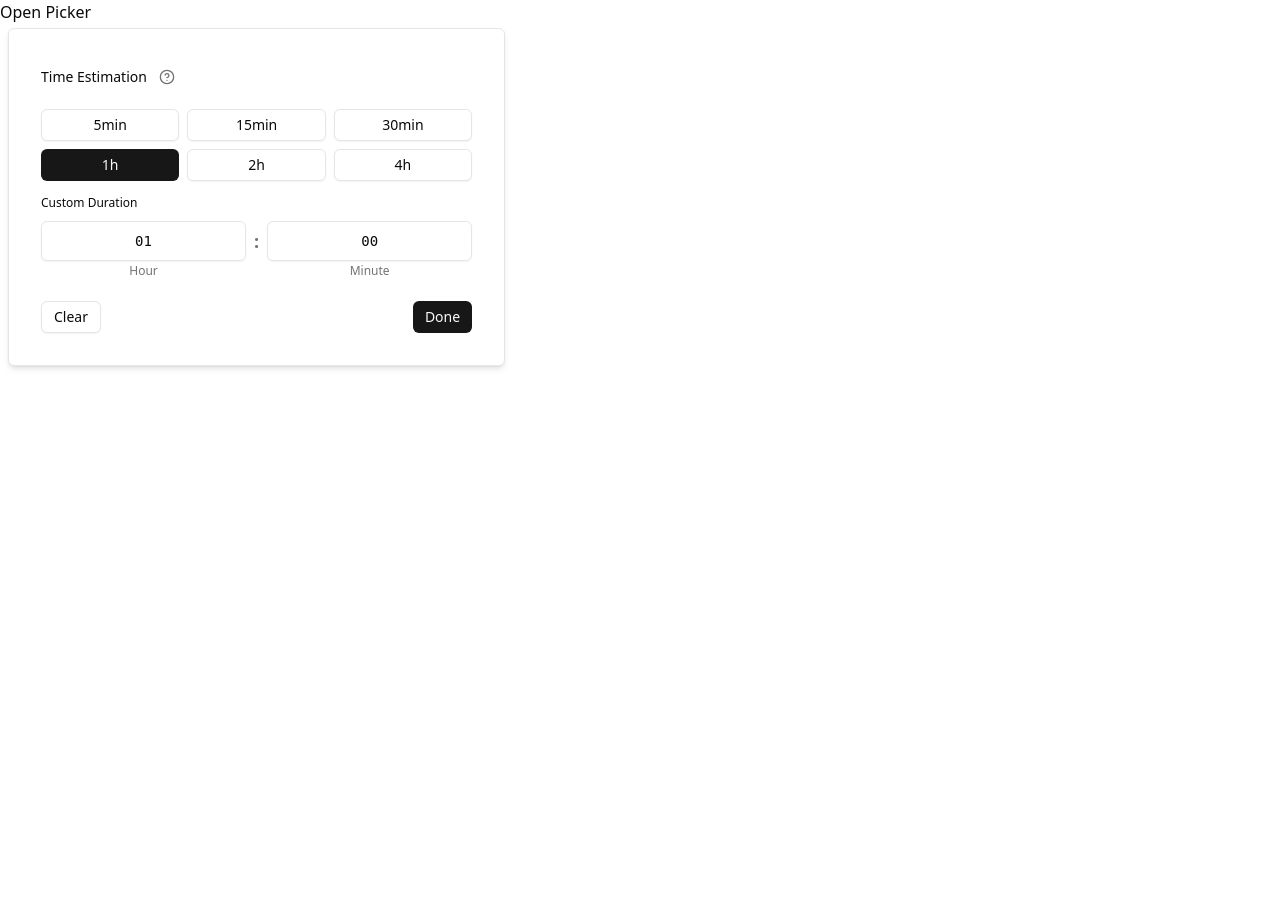
TimeEstimationPicker › custom duration functionality › formats minute input on blur
The image size is (1280, 900).
Replace the text in the 2nd field showing "00" with "7" at (370, 241), box left=267, top=221, right=472, bottom=261
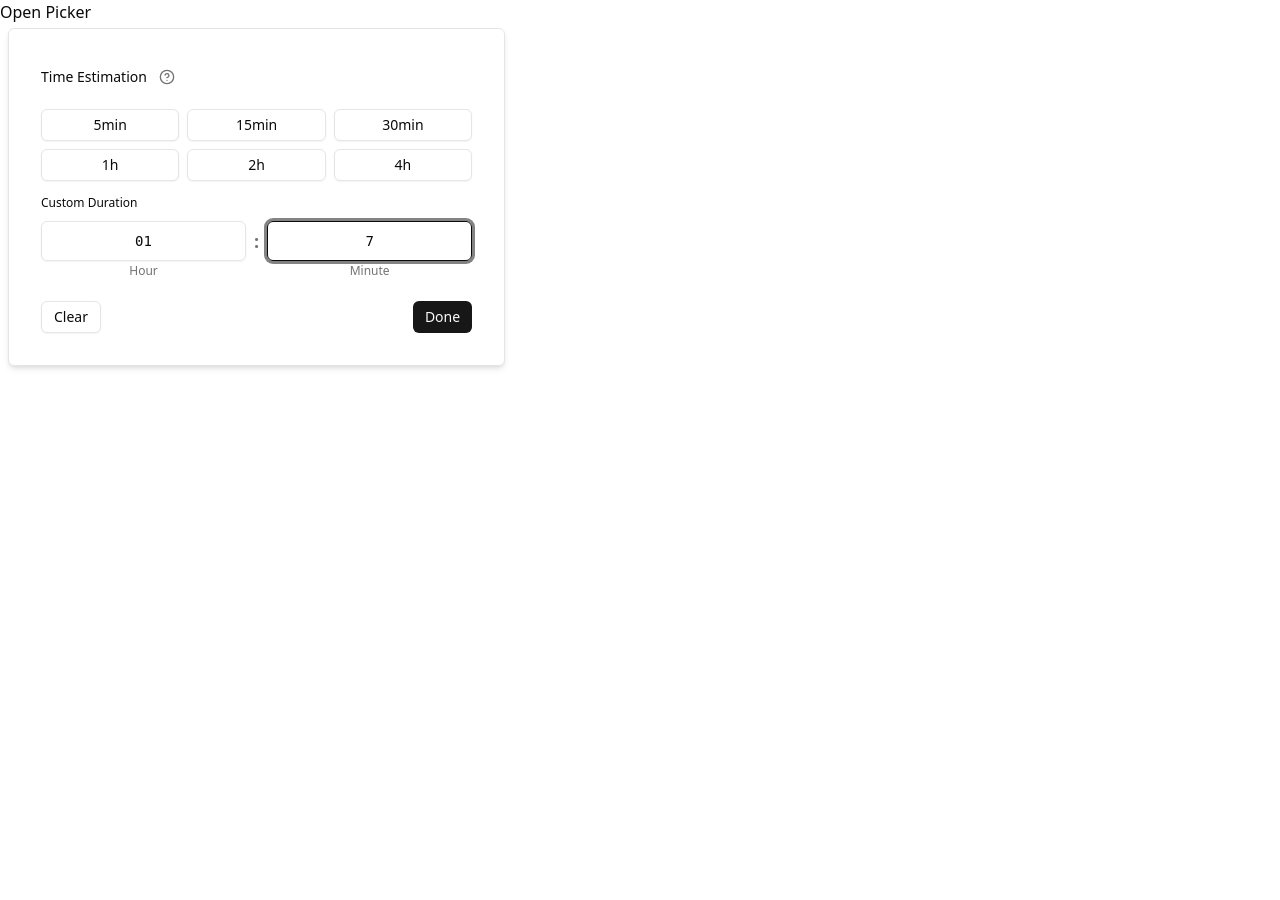
Press Tab
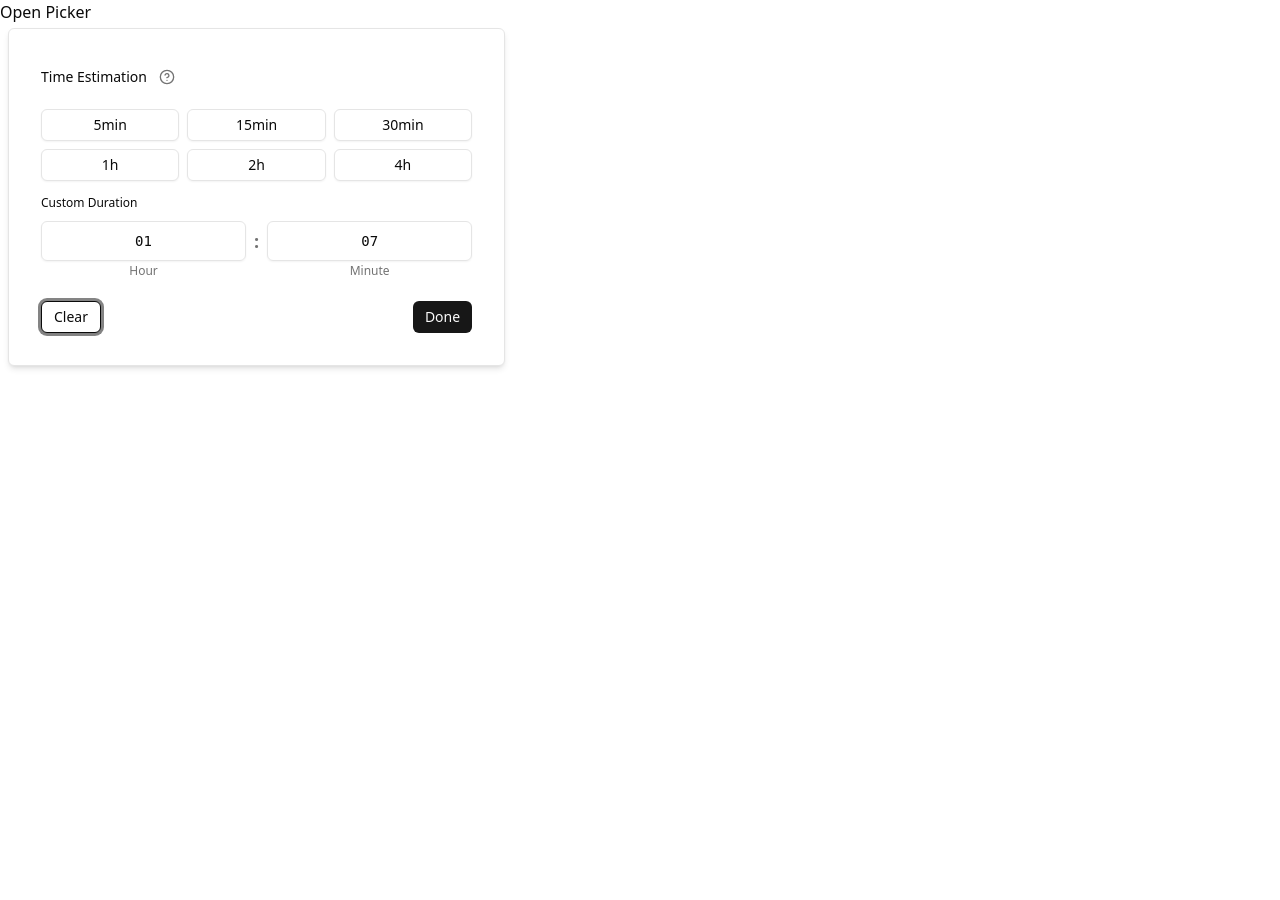
Result: the 2nd field showing "00" holds "07" at left=267, top=221, right=472, bottom=261
